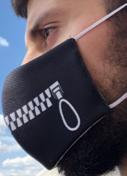with_mask: (2, 1, 127, 176)
